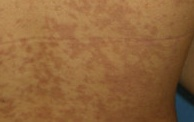SJS-TEN: (0, 0, 172, 122)
